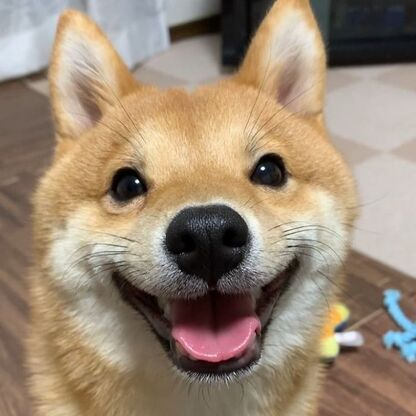shiba: (19, 1, 366, 416)
